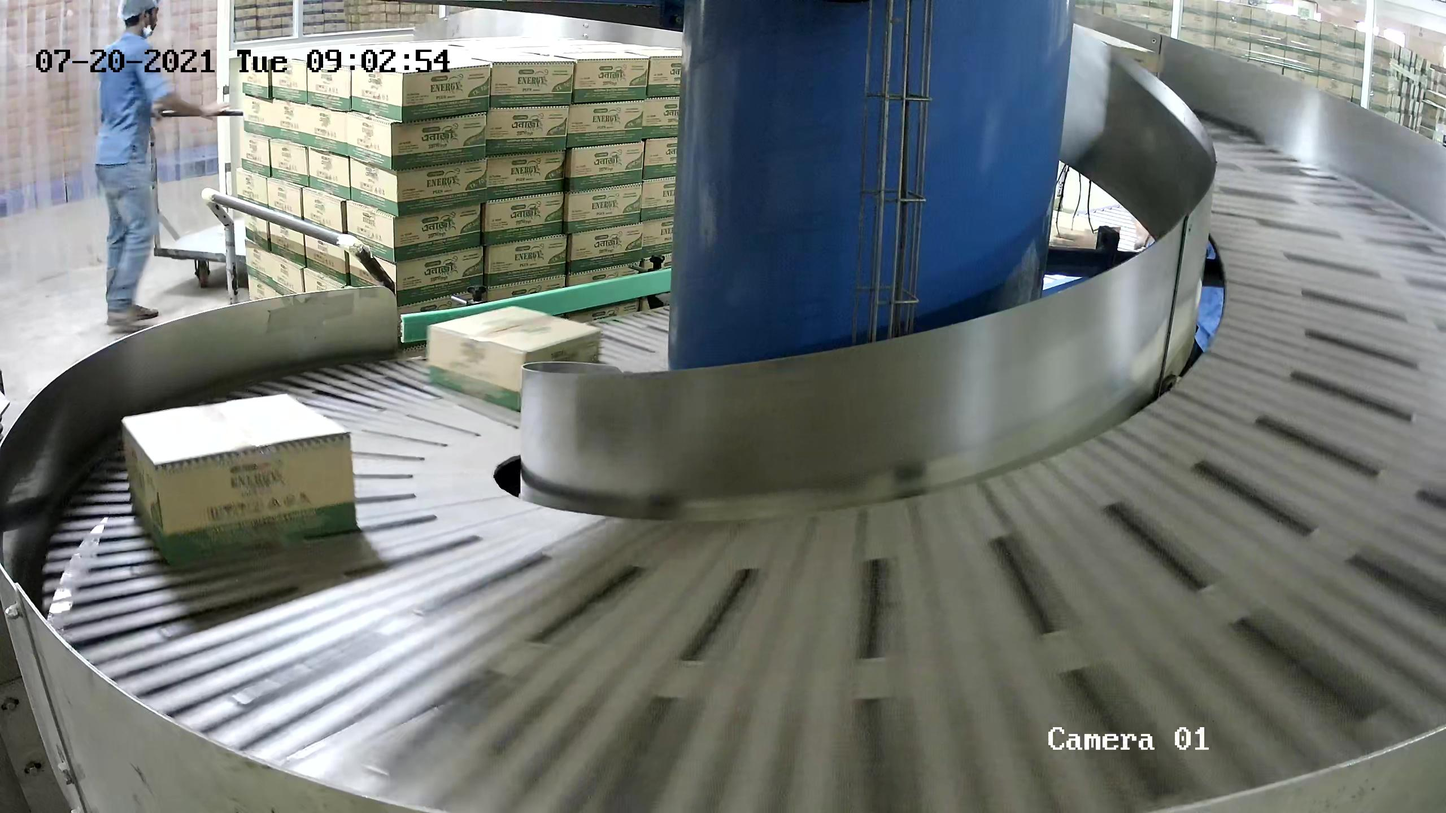Box: (120, 390, 361, 566), (426, 304, 602, 411)
